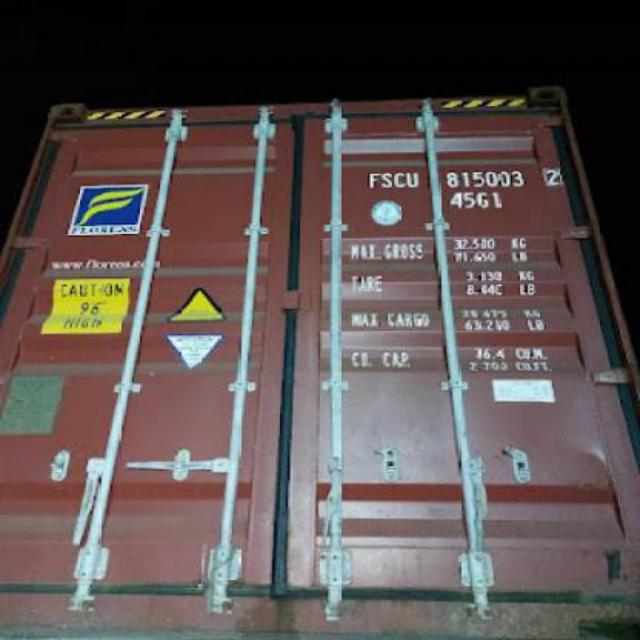0: (498, 164, 510, 192), (486, 165, 498, 189)
1: (458, 169, 472, 187)
2: (544, 162, 568, 190)
3: (510, 162, 528, 188)
5: (472, 162, 484, 188)
8: (446, 163, 458, 187)
C: (394, 170, 406, 188)
F: (364, 170, 380, 192)
S: (380, 170, 392, 188)
U: (404, 168, 422, 192)
